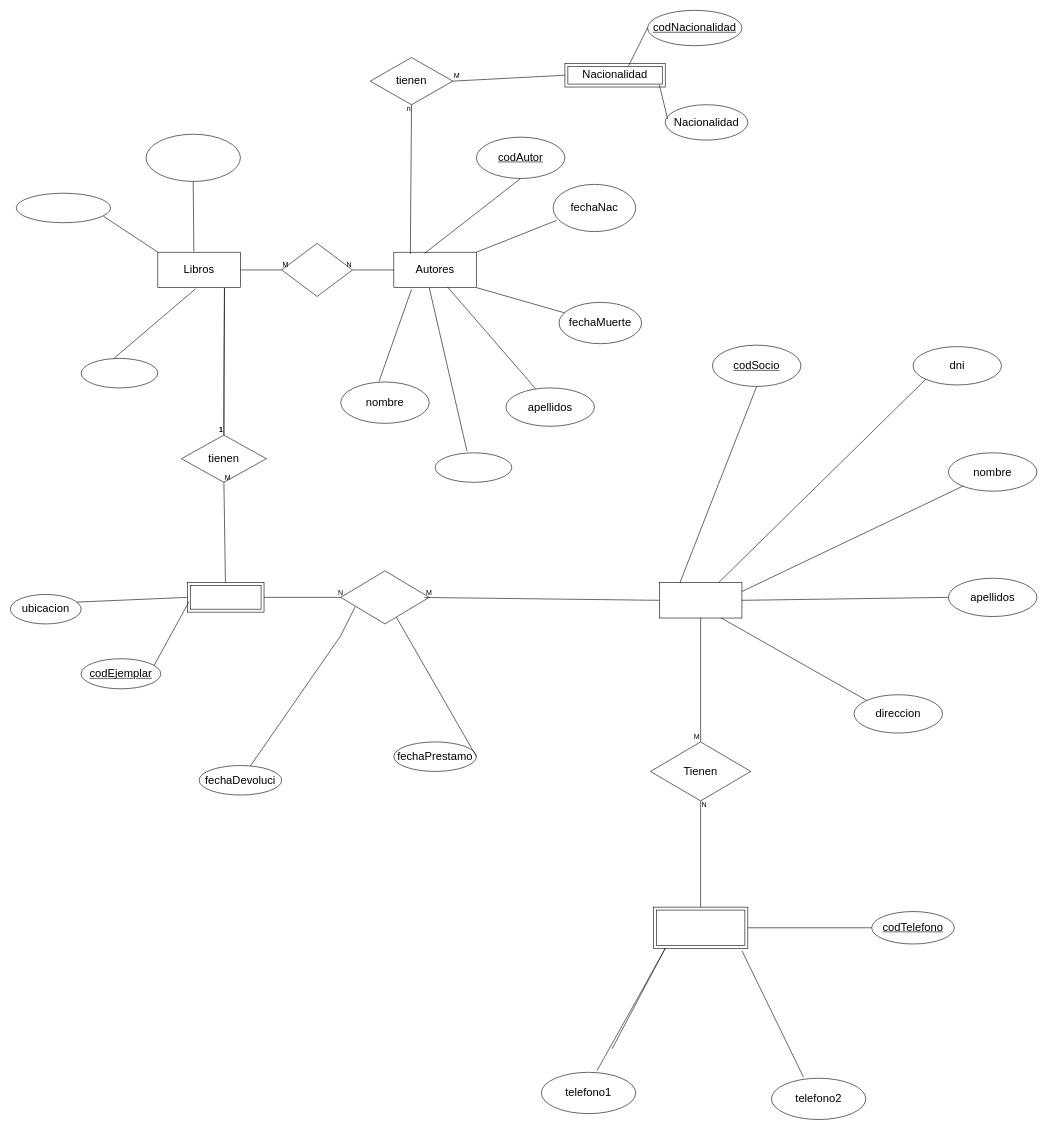
This 1047x1130 diagram has some shape labels left out. Each missing label, with the centre of its shape:
alquilan: pixel 384 597
biografia: pixel 473 467
ejemplares: pixel 225 597
Escriben: pixel 317 269
fechaPublicacion: pixel 192 157
ISBN: pixel 63 208
socios: pixel 700 600
telefonos: pixel 700 927
Titulo: pixel 119 373
